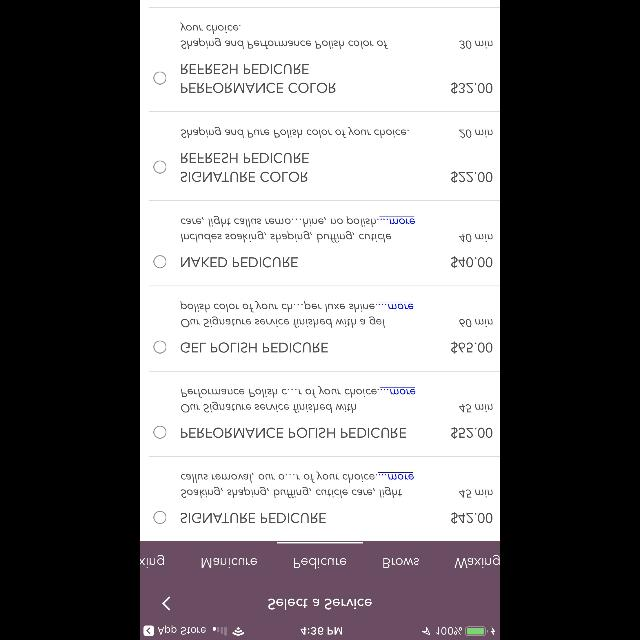checkbox: (154, 511, 166, 524), (154, 341, 166, 354), (154, 426, 166, 438), (154, 256, 166, 268), (154, 161, 166, 173), (154, 72, 166, 84)
icon: (162, 596, 170, 610)
text: (180, 300, 414, 328), (181, 215, 415, 242), (180, 472, 414, 498), (181, 386, 415, 412), (180, 22, 388, 50), (182, 64, 336, 92), (181, 152, 309, 182), (181, 128, 409, 138), (182, 428, 406, 438), (180, 512, 326, 524), (180, 342, 328, 353), (268, 598, 372, 610), (182, 257, 298, 267), (454, 554, 500, 568), (202, 558, 258, 568), (294, 558, 346, 568), (451, 426, 493, 438), (451, 341, 493, 353), (451, 256, 493, 268), (452, 512, 492, 524), (452, 171, 492, 183), (452, 82, 492, 94), (383, 558, 419, 568), (140, 554, 164, 568), (459, 129, 493, 137), (460, 489, 492, 497), (460, 404, 492, 412), (460, 319, 492, 327), (460, 234, 492, 242), (460, 40, 492, 48)
uppertaskbar: (140, 626, 500, 640)
